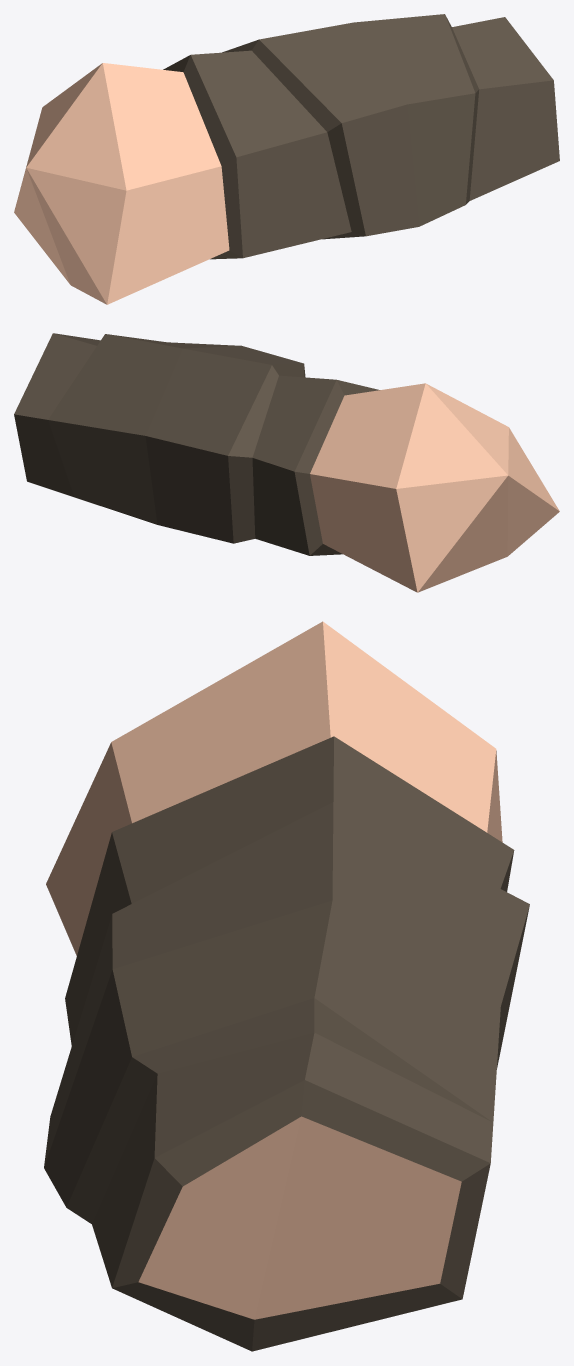
Rendered from Chr_ArmUpperLeft_Male_11_Static.fbx.
The picture shows the model from 3 angles, top to bottom: view 1: azimuth 30°, elevation 25°; view 2: azimuth 150°, elevation 25°; view 3: azimuth 270°, elevation 25°; orthographic projection. The views are drawn at different scales.
Parts seen in each view (by area): view 1: Chr_ArmUpperLeft_Male_11_Static; view 2: Chr_ArmUpperLeft_Male_11_Static; view 3: Chr_ArmUpperLeft_Male_11_Static.
Boxes of the visible parts, x1,y1,x2,y2 form: Chr_ArmUpperLeft_Male_11_Static: (14,14,559,304); Chr_ArmUpperLeft_Male_11_Static: (14,333,559,592); Chr_ArmUpperLeft_Male_11_Static: (44,621,529,1351).
Bounding box in the file's own units: 0.3345 × 0.1363 × 0.1504.
